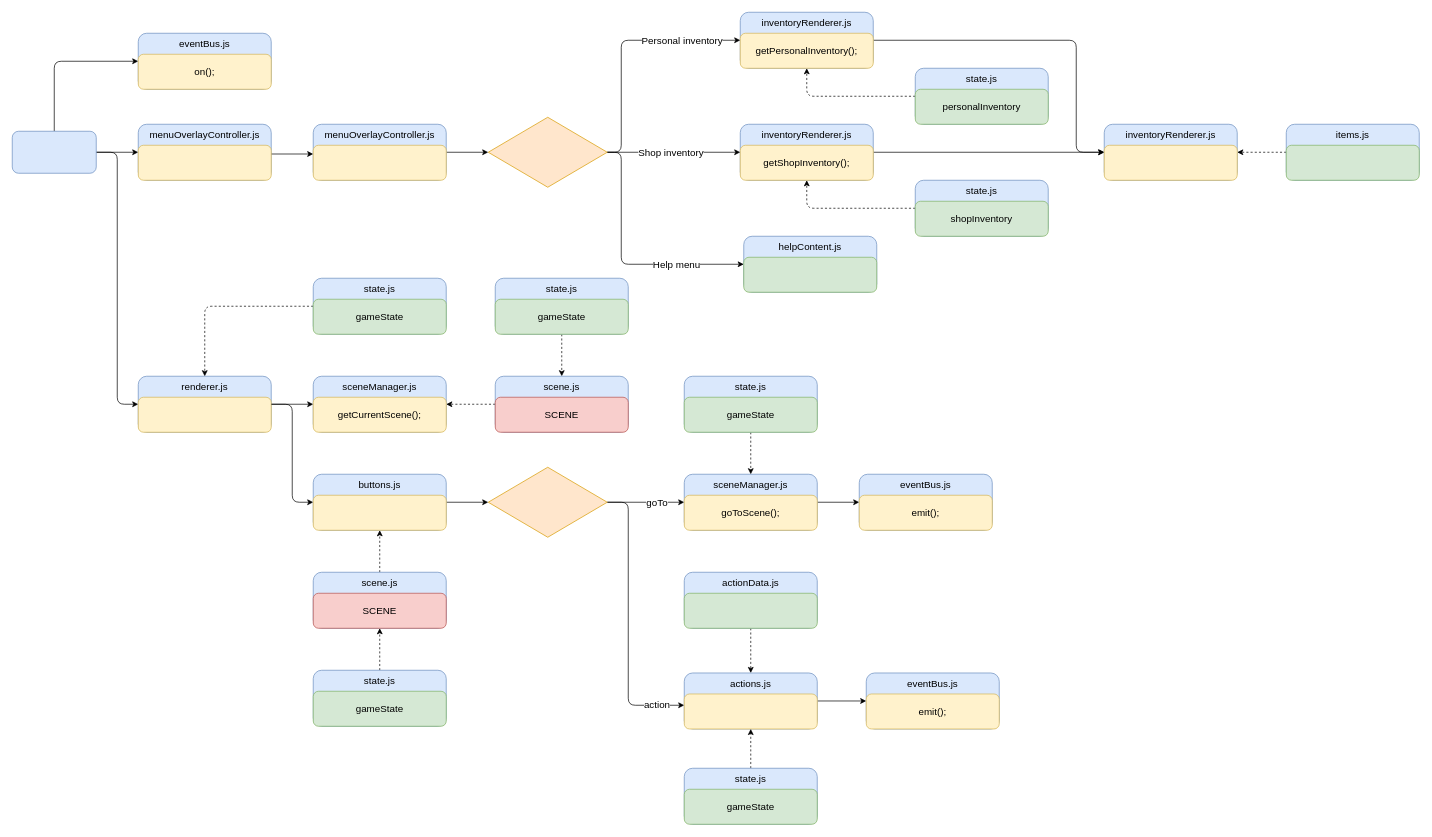
The diagram is 1432 pixels wide and 837 high, and some of its shapes have lost their labels. Each missing label, with the centre of its shape:
actionData: the point at 750,610
handleOption();: the point at 379,512
helpContent: the point at 810,274
ITEMS: the point at 1352,162
Main.js: the point at 54,152
onclick [menuButton]: the point at 547,152
option type?: the point at 547,502
performAction();: the point at 750,711
render();: the point at 204,414
renderInventory();: the point at 1170,162
setupMenuButtons();: the point at 379,162
setupOverlay();: the point at 204,162
